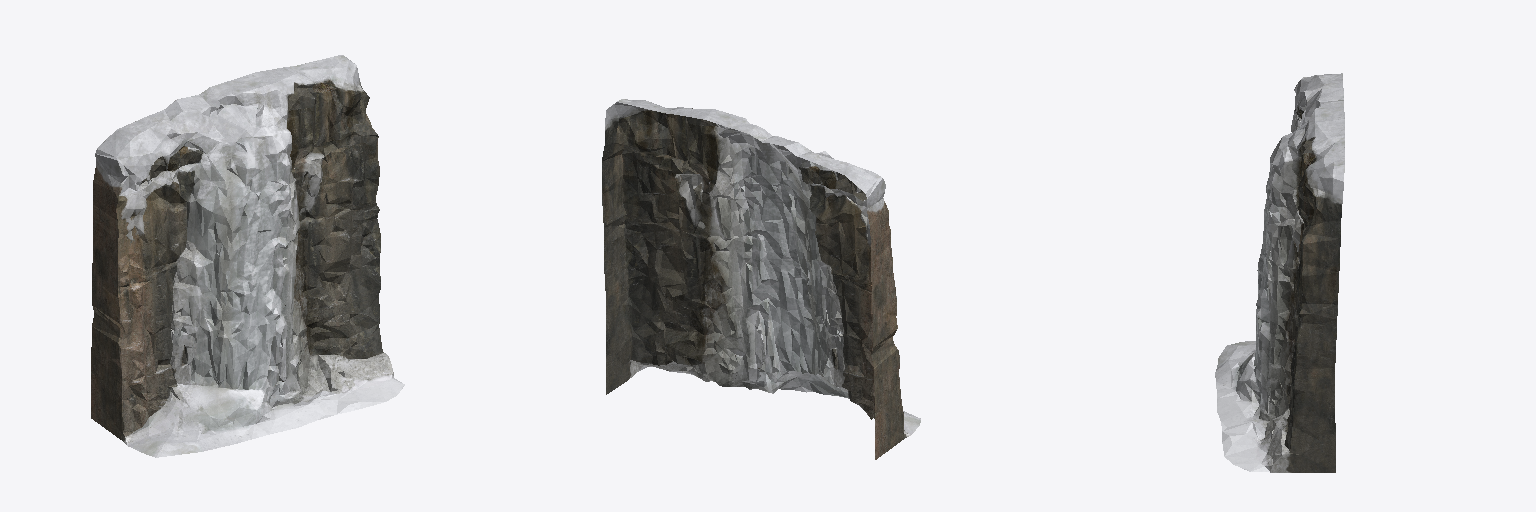
The picture shows the model from 3 angles: view 1: azimuth 30°, elevation 25°; view 2: azimuth 150°, elevation 25°; view 3: azimuth 270°, elevation 25°; orthographic projection.
Visible parts, largest first — view 1: uhupbgxfa_LOD0_TIER3_000; view 2: uhupbgxfa_LOD0_TIER3_000; view 3: uhupbgxfa_LOD0_TIER3_000.
Boxes of the visible parts, box(x1,y1,x2,y2) form: uhupbgxfa_LOD0_TIER3_000: box(91, 55, 404, 457); uhupbgxfa_LOD0_TIER3_000: box(602, 99, 920, 459); uhupbgxfa_LOD0_TIER3_000: box(1215, 73, 1344, 472).
Size of the model in its own units: 4.76 by 5.08 by 1.96.
1 materials, 1 textured.